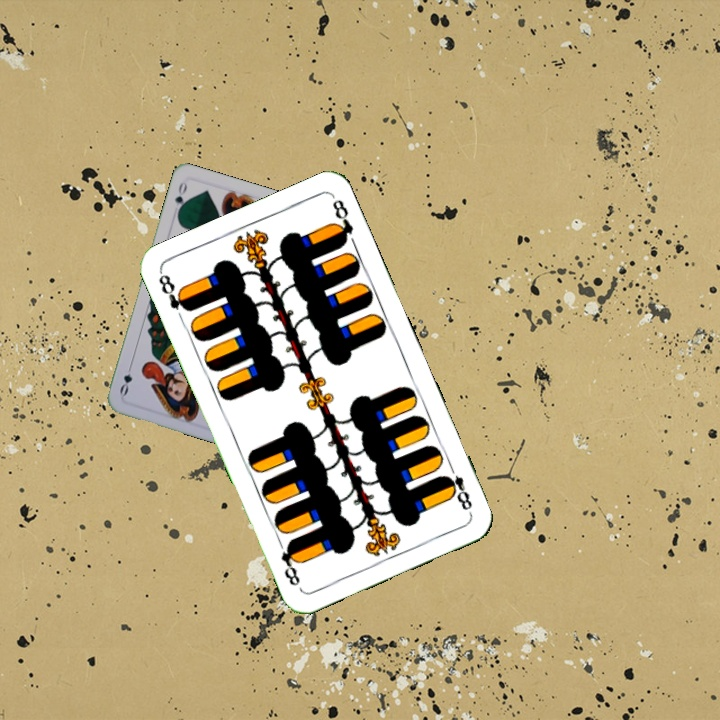E8: (439, 459, 475, 513), (154, 269, 194, 315)
GO: (171, 178, 190, 218)
